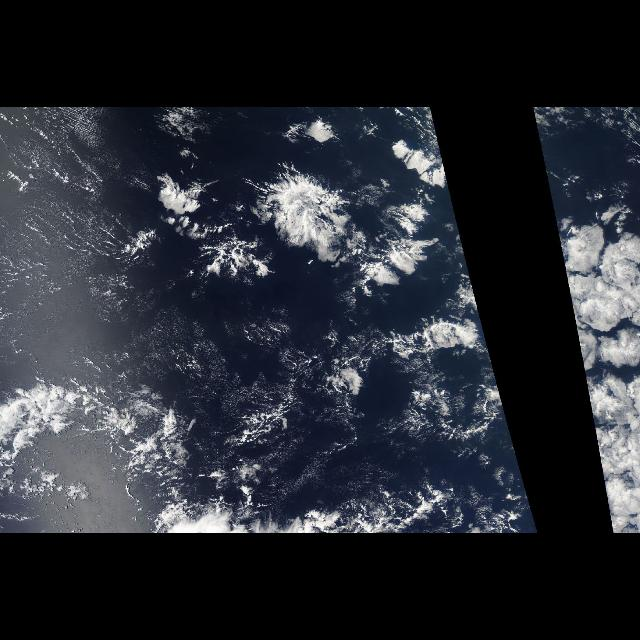Flower: (134, 118, 448, 292)
Sugar: (4, 129, 296, 401)
